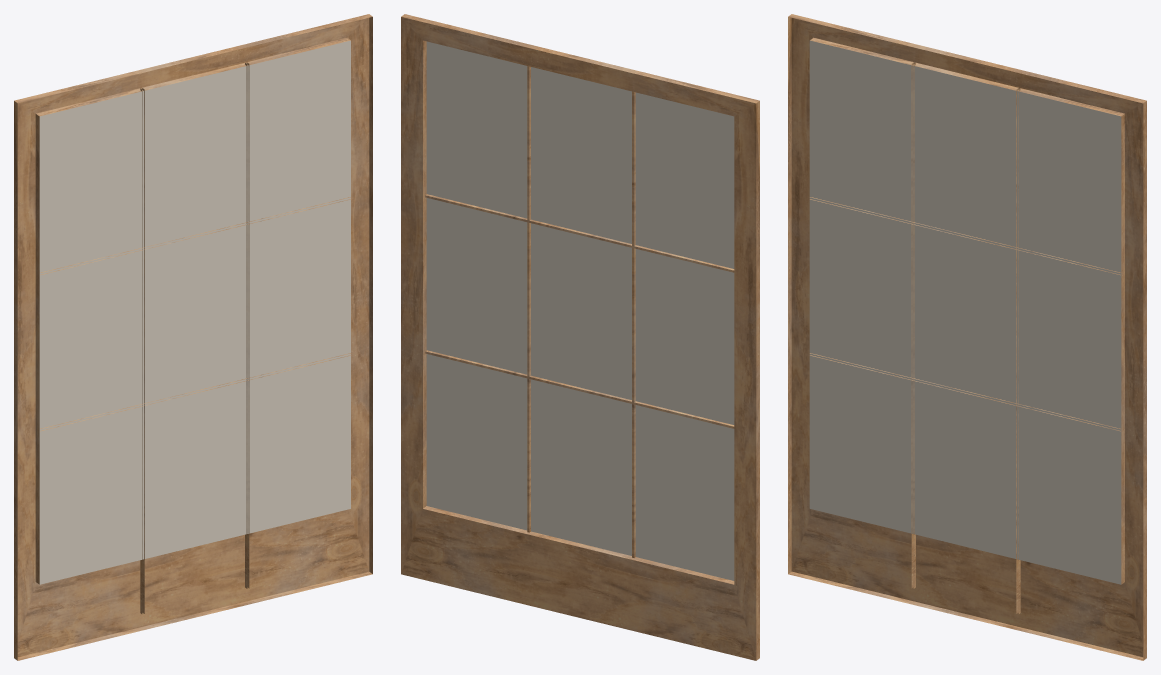
Rendered from NNJ0510007.fbx.
3 views of the same model, side by side, from view 1: azimuth 30°, elevation 25°; view 2: azimuth 150°, elevation 25°; view 3: azimuth 330°, elevation 25° (orthographic).
Visible parts, largest first — view 1: smNNJ0510007; view 2: smNNJ0510007; view 3: smNNJ0510007.
Part boxes in pixels (x1,y1,x2,y2): smNNJ0510007: (14, 14, 372, 660); smNNJ0510007: (401, 14, 759, 660); smNNJ0510007: (788, 14, 1146, 660).
Size of the model in its own units: 170 by 255 by 3.56.
Materials: 1 (1 with a texture image).
